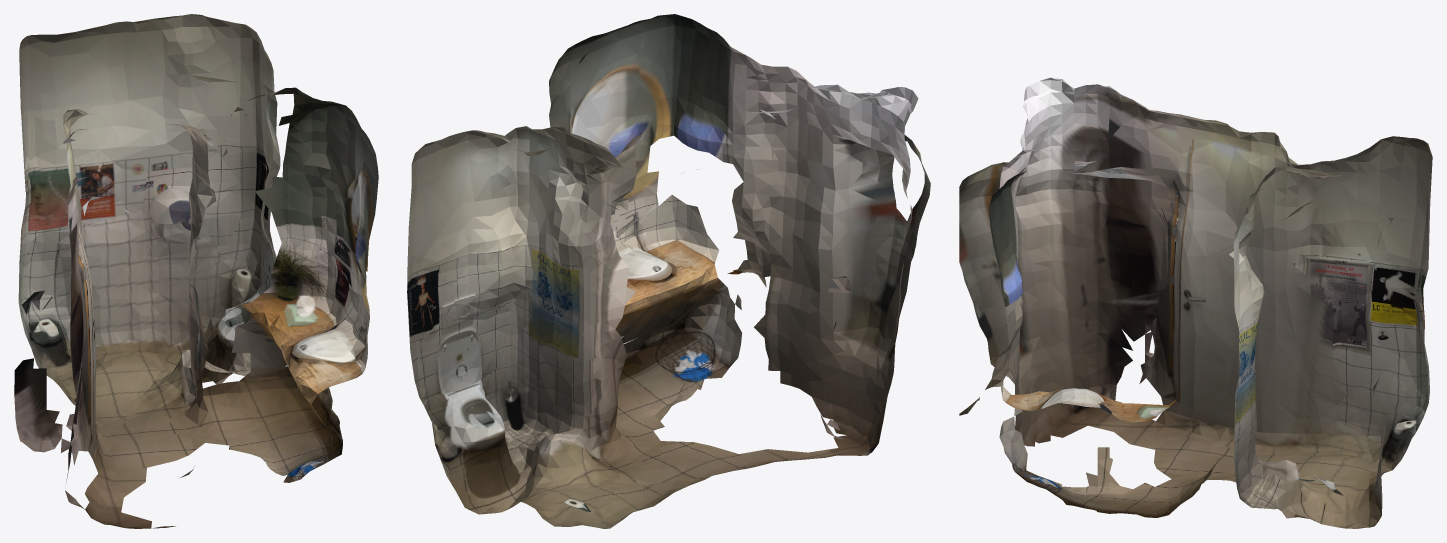
The model's file is seven.glb.
3 views of the same model, side by side, from view 1: azimuth 30°, elevation 25°; view 2: azimuth 150°, elevation 25°; view 3: azimuth 270°, elevation 25° (orthographic). The views are drawn at different scales.
Visible parts, largest first — view 1: mesh; view 2: mesh; view 3: mesh.
Part boxes in pixels (<box>): mesh: <box>14,14,378,528</box>; mesh: <box>407,14,930,528</box>; mesh: <box>959,77,1432,528</box>.
Bounding box in the file's own units: 2.56 × 2.95 × 3.21.
Materials: 1 (1 with a texture image).
